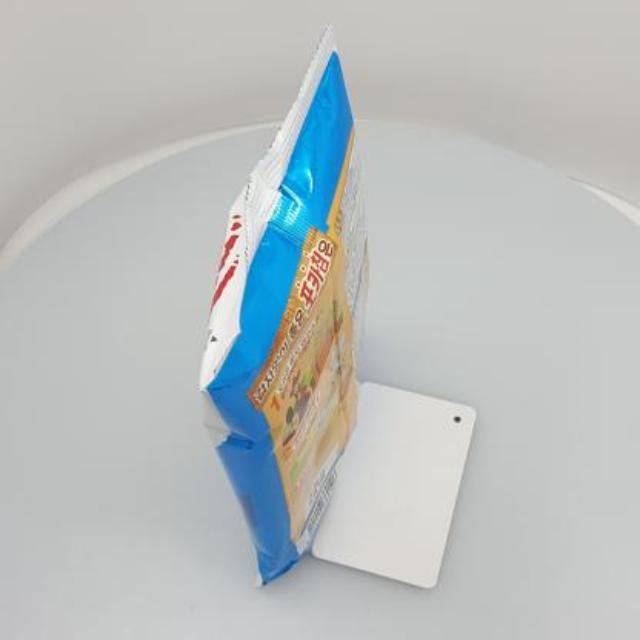snack_bag: (182, 10, 396, 602)
